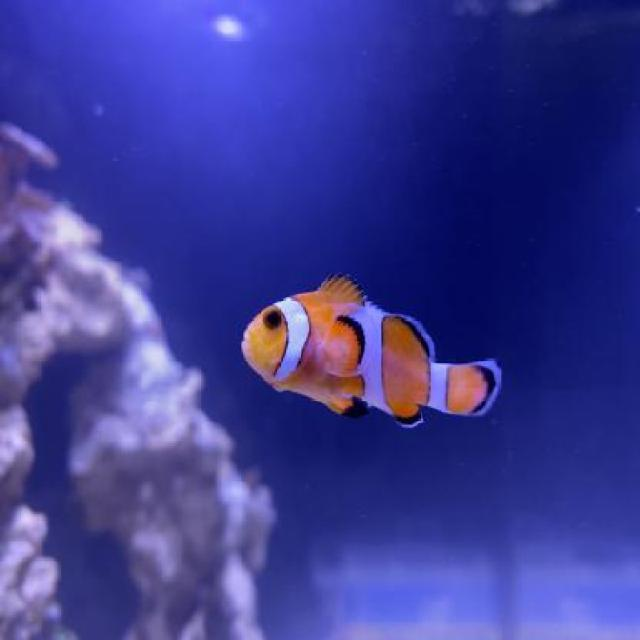ClownFish: (237, 271, 501, 434)
